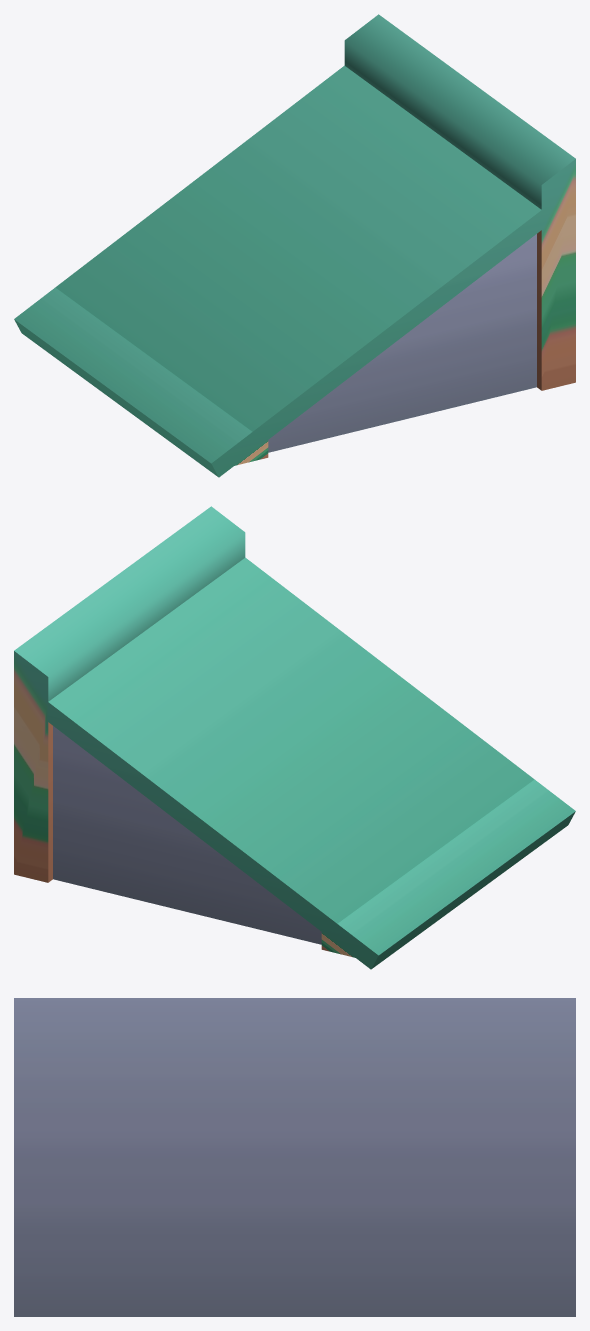
File: roof.glb
3 renders of one model, top to bottom at view 1: azimuth 30°, elevation 25°; view 2: azimuth 150°, elevation 25°; view 3: azimuth 270°, elevation 25°, orthographic. The views are drawn at different scales.
Visible parts, largest first — view 1: roof; view 2: roof; view 3: roof.
Part boxes in pixels (x1,y1,x2,y2): roof: (14, 14, 575, 477); roof: (14, 506, 575, 969); roof: (14, 998, 575, 1316).
Size of the model in its own units: 1.07 by 0.6483 by 1.
Materials: 1 (1 with a texture image).
